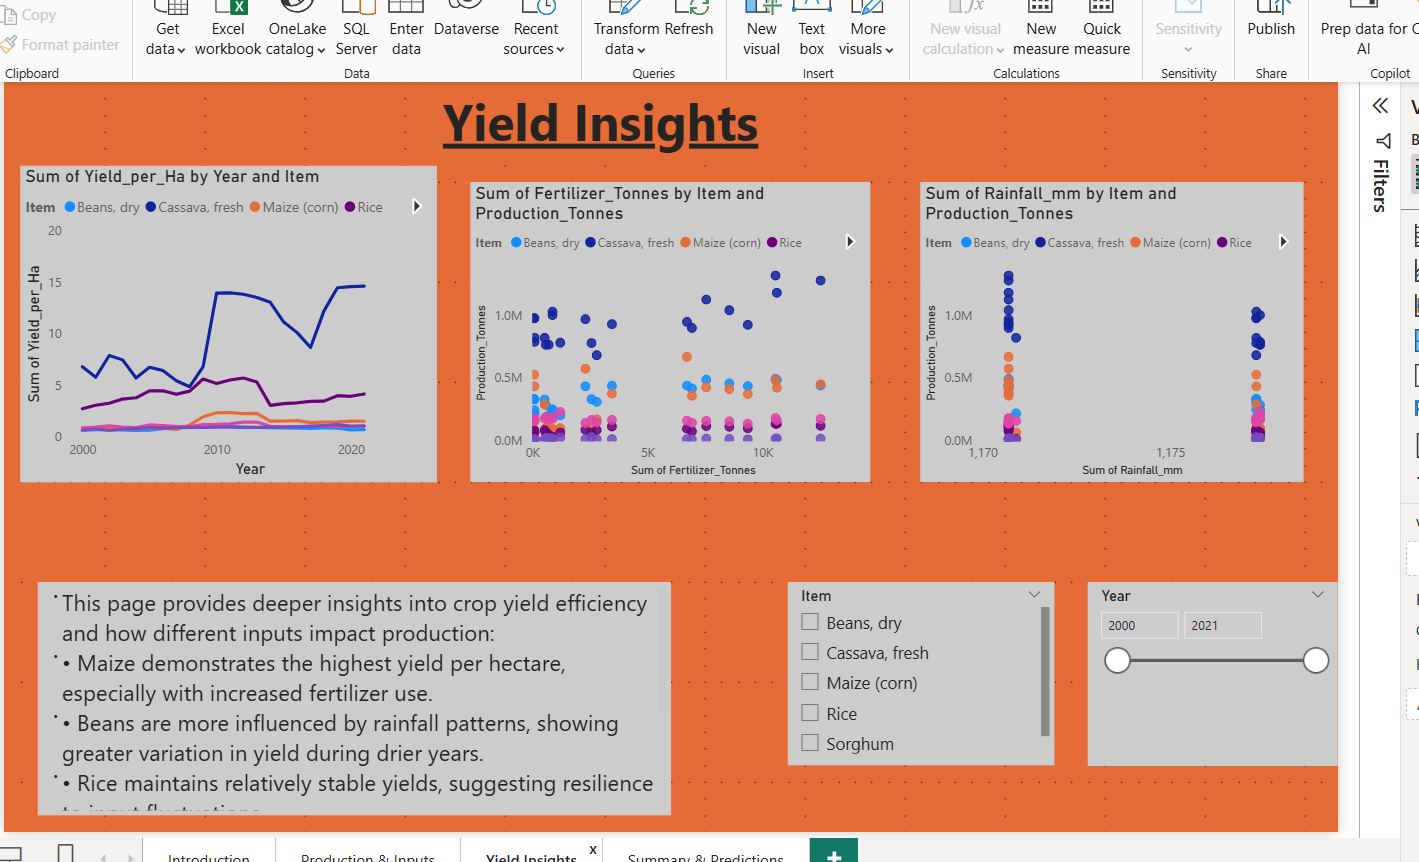

The page's visual inventory and layout, read from the dashboard file:
{"tool":"powerbi","page":{"name":"Yield Insights","canvas":[1280,720],"ordinal":2},"visuals":[{"type":"lineChart","fields":{"Category":["cleaned_agriculture_data_fixed.Year"],"Y":["Sum(cleaned_agriculture_data_fixed.Yield_per_Ha)"],"Series":["cleaned_agriculture_data_fixed.Item"]},"box":[16,80,400,304],"z":0},{"type":"scatterChart","fields":{"X":["Sum(cleaned_agriculture_data_fixed.Fertilizer_Tonnes)"],"Y":["cleaned_agriculture_data_fixed.Production_Tonnes"],"Series":["cleaned_agriculture_data_fixed.Item"]},"box":[448,96,384,288],"z":1000},{"type":"scatterChart","fields":{"X":["Sum(cleaned_agriculture_data_fixed.Rainfall_mm)"],"Y":["cleaned_agriculture_data_fixed.Production_Tonnes"],"Series":["cleaned_agriculture_data_fixed.Item"]},"box":[880,96,368,288],"z":2000},{"type":"textbox","box":[32,480,608,224],"z":3000},{"type":"slicer","fields":{"Values":["cleaned_agriculture_data_fixed.Item"]},"box":[752,480,256,176],"z":4000},{"type":"slicer","fields":{"Values":["cleaned_agriculture_data_fixed.Year"]},"box":[1040,480,240,176],"z":5000},{"type":"textbox","box":[416,0,352,80],"z":6000}]}

Visuals, with their boxes on the page's 1280x720 design canvas (x1, y1, x2, y2). These are canvas units, not pixel positions in the 1419x862 screenshot, which may show the page scaled, cropped or inside an application window:
lineChart - cleaned_agriculture_data_fixed.Year x Sum(cleaned_agriculture_data_fixed.Yield_per_Ha): [left=16, top=80, right=416, bottom=384]
scatterChart - Sum(cleaned_agriculture_data_fixed.Fertilizer_Tonnes) x cleaned_agriculture_data_fixed.Production_Tonnes: [left=448, top=96, right=832, bottom=384]
scatterChart - Sum(cleaned_agriculture_data_fixed.Rainfall_mm) x cleaned_agriculture_data_fixed.Production_Tonnes: [left=880, top=96, right=1248, bottom=384]
textbox: [left=32, top=480, right=640, bottom=704]
slicer - cleaned_agriculture_data_fixed.Item: [left=752, top=480, right=1008, bottom=656]
slicer - cleaned_agriculture_data_fixed.Year: [left=1040, top=480, right=1280, bottom=656]
textbox: [left=416, top=0, right=768, bottom=80]
